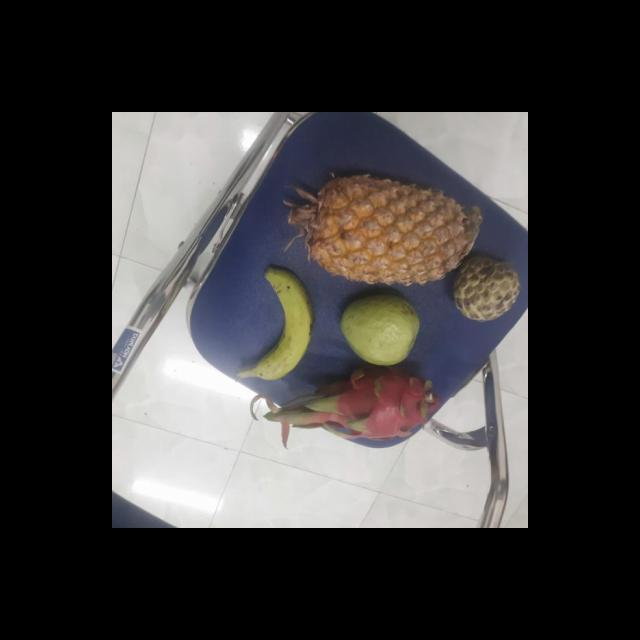Sakya fruit: (446, 256, 520, 322)
banana: (243, 272, 313, 379)
guava: (338, 294, 422, 366)
pineapple: (292, 175, 473, 284)
pitaya: (316, 364, 434, 448)
